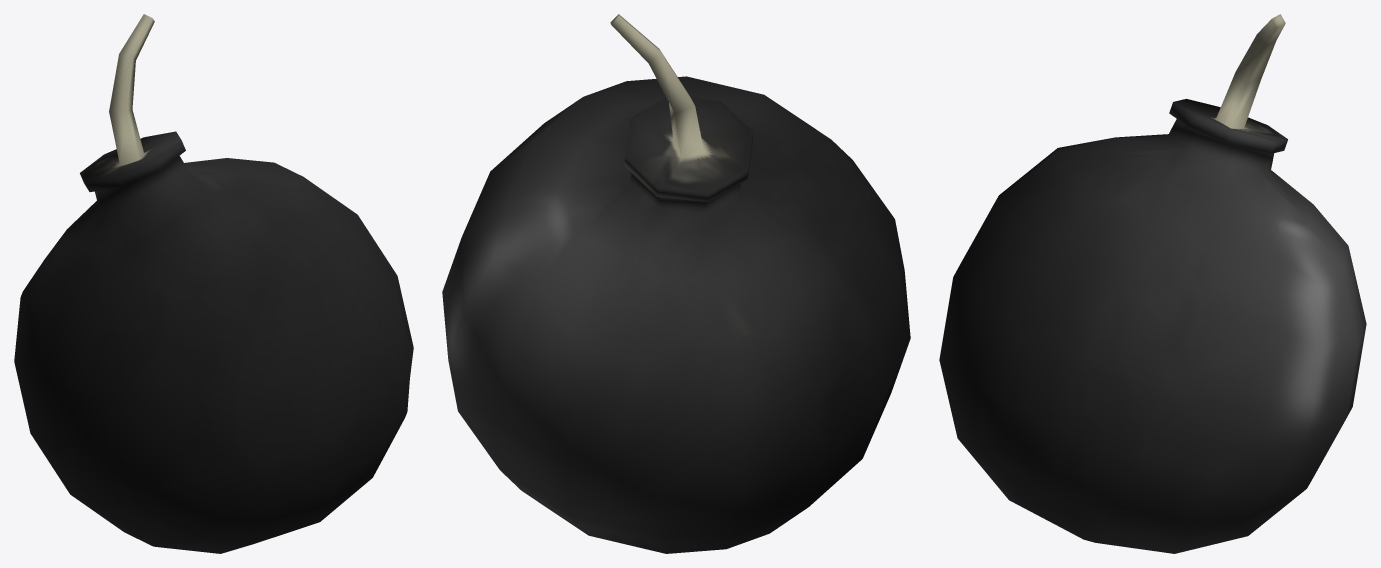
File: bomba.fbx
The picture shows the model from 3 angles, left to right: view 1: azimuth 30°, elevation 25°; view 2: azimuth 150°, elevation 25°; view 3: azimuth 270°, elevation 25°; orthographic projection. The views are drawn at different scales.
Visible parts, largest first — view 1: Cube.002; view 2: Cube.002; view 3: Cube.002.
Part boxes in pixels (<box>): Cube.002: <box>14,14,413,553</box>; Cube.002: <box>442,14,910,553</box>; Cube.002: <box>939,14,1366,553</box>.
Bounding box in the file's own units: 209 × 280 × 210.
1 material, 1 textured.
